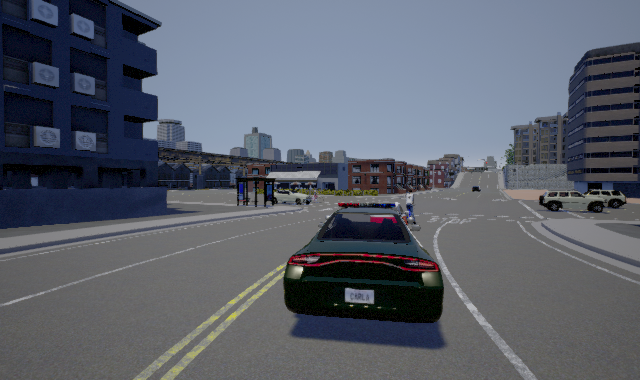bike: (403, 189, 419, 226)
vehicle: (283, 201, 444, 323), (539, 189, 604, 213), (581, 188, 630, 210), (274, 190, 317, 205)
